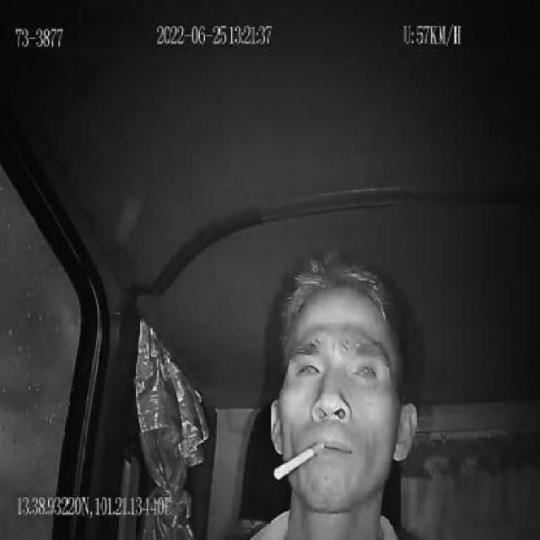smoking: (274, 440, 324, 483)
